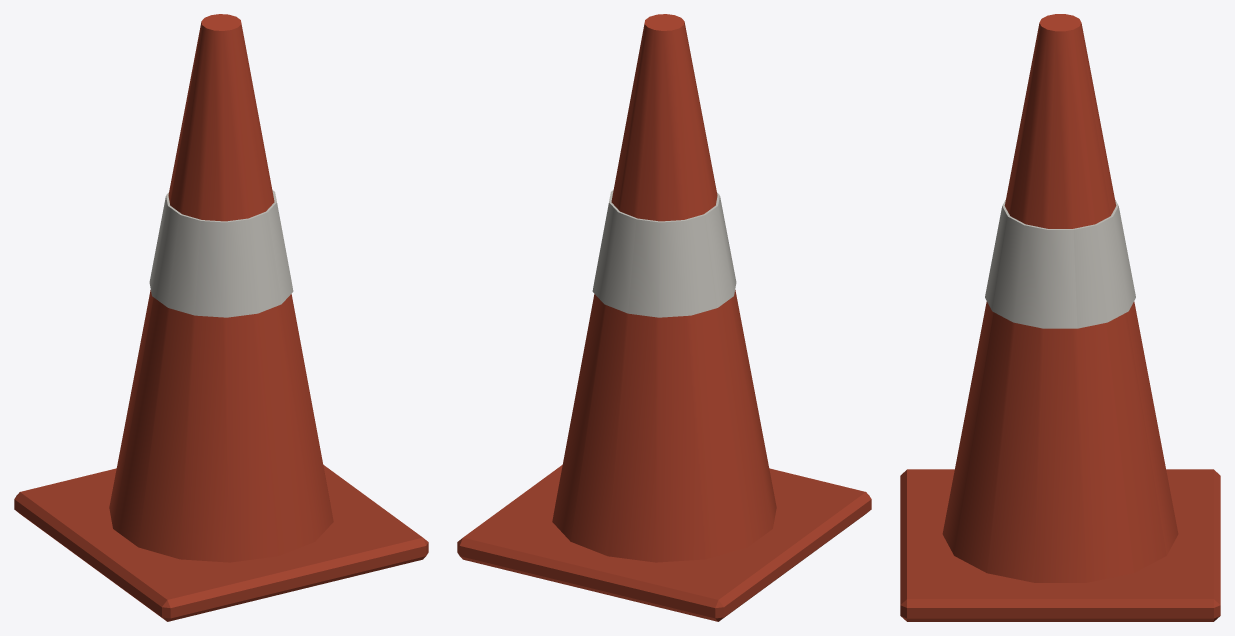
File: prop_traffic_cone_01.glb
3 views of the same model, side by side, from view 1: azimuth 30°, elevation 25°; view 2: azimuth 150°, elevation 25°; view 3: azimuth 270°, elevation 25° (orthographic). The views are drawn at different scales.
Parts seen in each view (by area): view 1: prop_traffic_cone_01; view 2: prop_traffic_cone_01; view 3: prop_traffic_cone_01.
Part boxes in pixels (<box>): prop_traffic_cone_01: <box>14,14,428,621</box>; prop_traffic_cone_01: <box>457,14,871,621</box>; prop_traffic_cone_01: <box>900,14,1220,621</box>.
Bounding box in the file's own units: 0.38 × 0.7 × 0.38.
